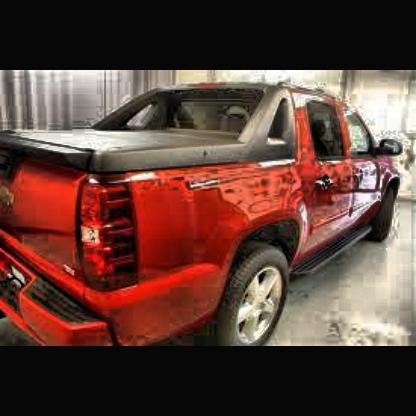Chevrolet Avalanche Crew Cab 2012: (2, 80, 408, 346)
